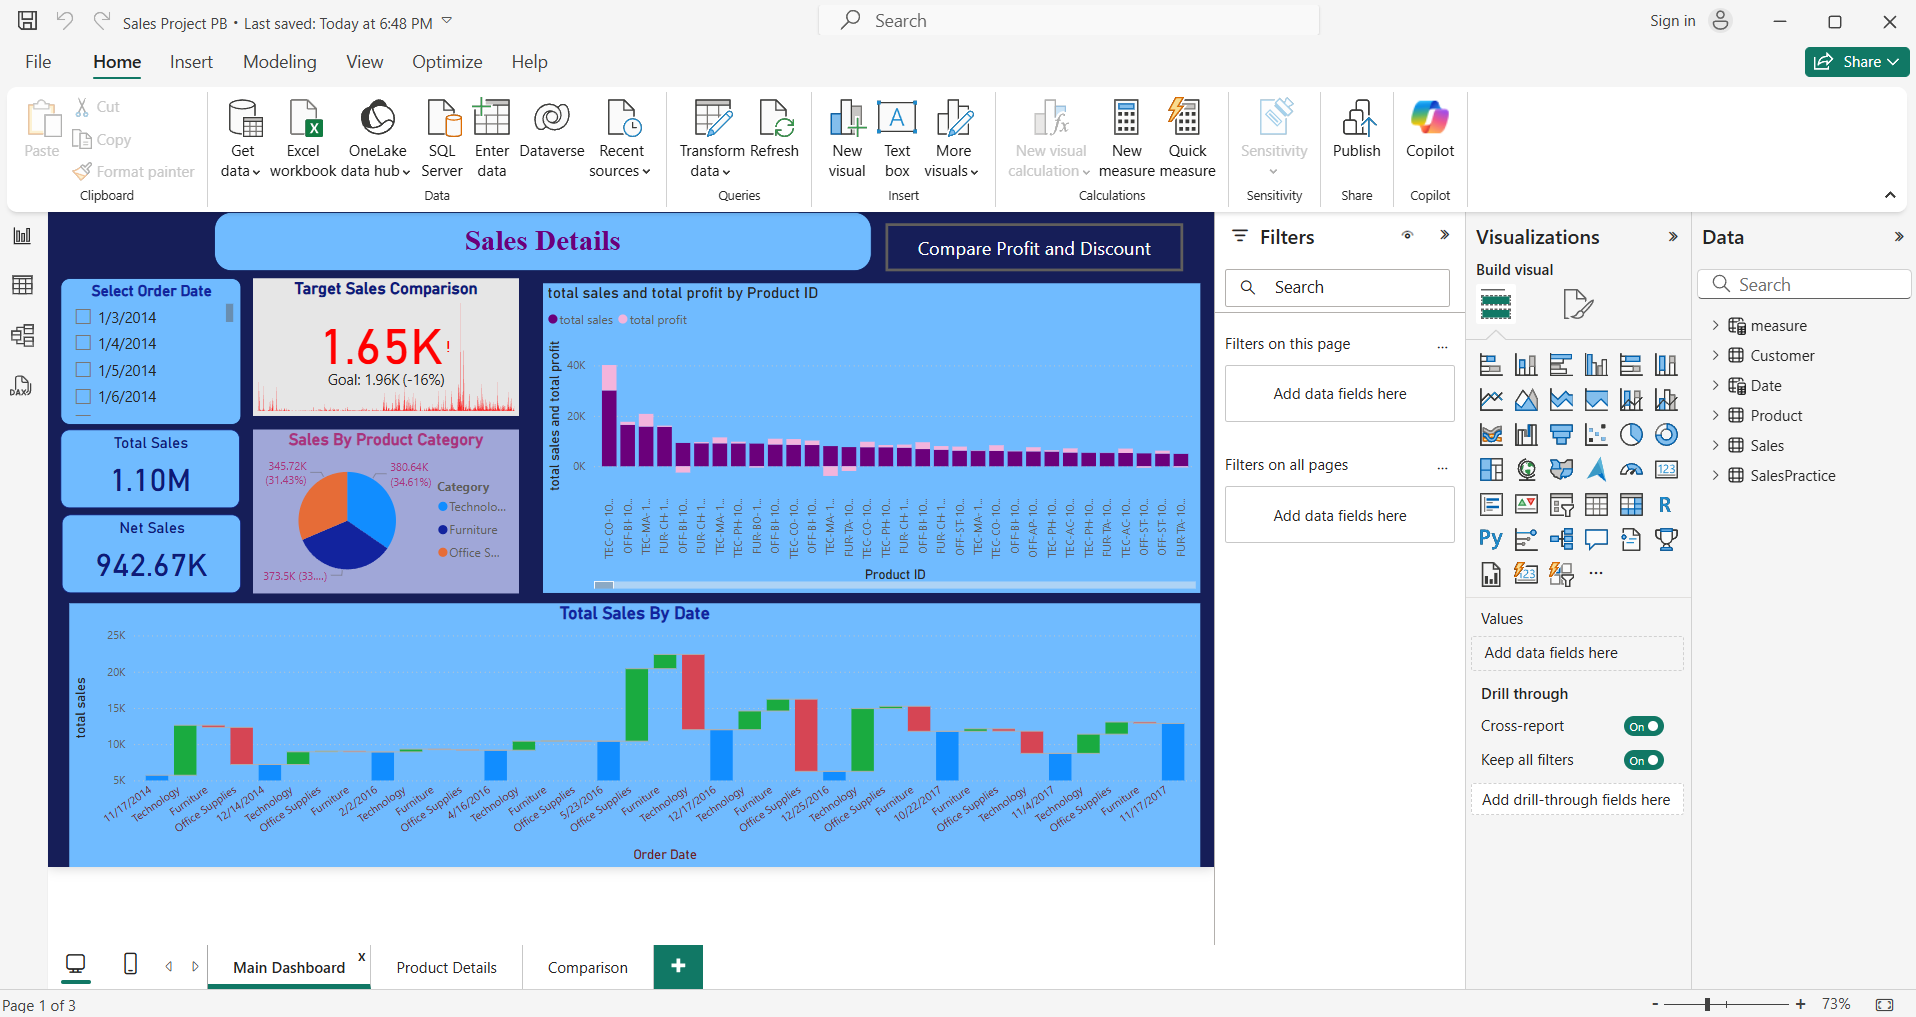

The page's visual inventory and layout, read from the dashboard file:
{"tool":"powerbi","page":{"name":"Main Dashboard","canvas":[1280,720],"ordinal":0},"visuals":[{"type":"textbox","box":[182.1,0,721.7,64.7],"z":0},{"type":"waterfallChart","title":"Total Sales By Date","fields":{"Category":["Sales.Order Date"],"Y":["measure.total sales"],"Breakdown":["Product.Category"]},"box":[23.3,429.5,1241.9,289.5],"z":1000},{"type":"slicer","title":"Select Order Date","fields":{"Values":["Sales.Order Date"]},"box":[13.4,73,198.4,160.6],"z":2000},{"type":"kpi","title":"Target Sales Comparison","fields":{"Indicator":["measure.total net"],"Goal":["measure.total sales"],"TrendLine":["Sales.Product ID"]},"box":[225,72.7,292.3,150.9],"z":3000},{"type":"pieChart","title":"Sales By Product Category","fields":{"Category":["Product.Category"],"Y":["measure.total sales"]},"box":[225,238.8,292.3,179.8],"z":4000},{"type":"card","title":"Total Sales","fields":{"Values":["measure.total sales"]},"box":[13.4,238.5,197.1,86.4],"z":5000},{"type":"card","title":"Net Sales","fields":{"Values":["measure.total net"]},"box":[14.6,332.2,197.1,86.4],"z":6000},{"type":"actionButton","box":[919.1,11.9,326.8,52.8],"z":7000},{"type":"columnChart","fields":{"Category":["Product.Product ID"],"Y":["measure.total sales","measure.total profit"]},"box":[543.4,78.2,721.8,340.3],"z":8001}]}

Visuals, with their boxes on the page's 1280x720 design canvas (x1, y1, x2, y2). These are canvas units, not pixel positions in the 1916x1017 screenshot, which may show the page scaled, cropped or inside an application window:
textbox: detection(182, 0, 904, 65)
"Total Sales By Date" waterfallChart: detection(23, 430, 1265, 719)
"Select Order Date" slicer: detection(13, 73, 212, 234)
"Target Sales Comparison" kpi: detection(225, 73, 517, 224)
"Sales By Product Category" pieChart: detection(225, 239, 517, 419)
"Total Sales" card: detection(13, 238, 210, 325)
"Net Sales" card: detection(15, 332, 212, 419)
actionButton: detection(919, 12, 1246, 65)
columnChart - Product.Product ID x measure.total sales: detection(543, 78, 1265, 418)
